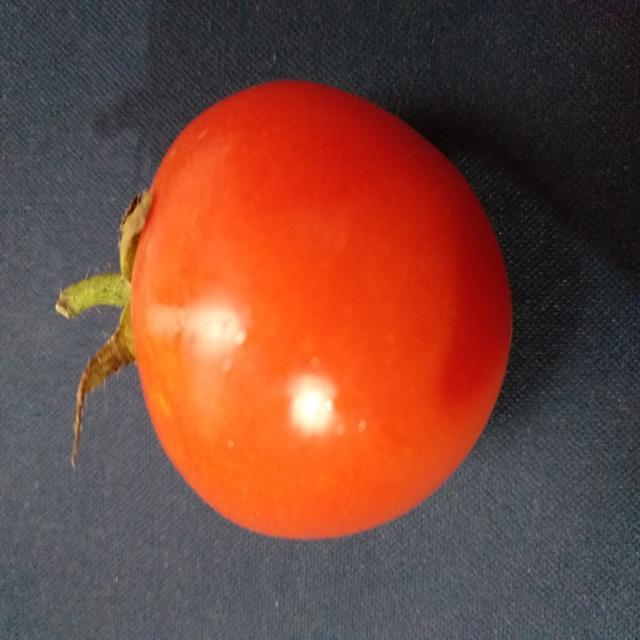tomato: (88, 52, 550, 551)
